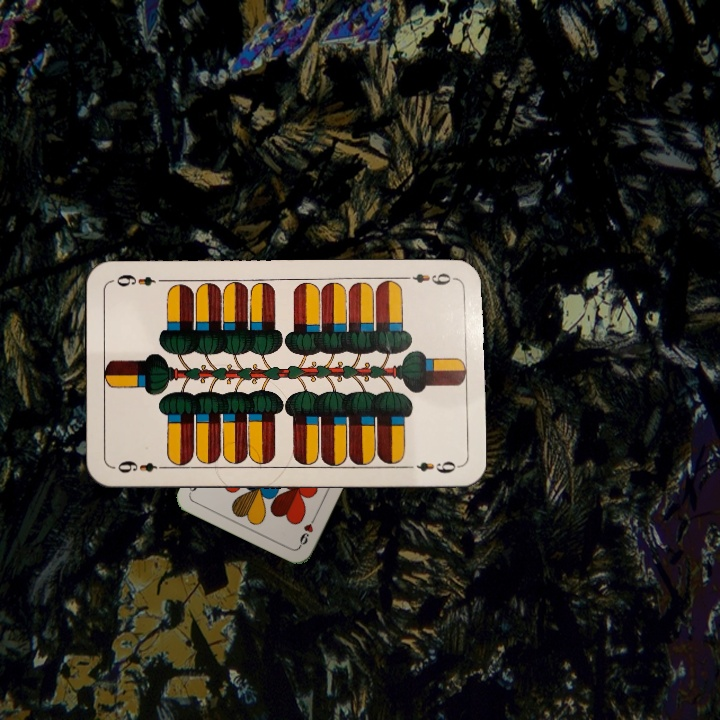E9: (111, 457, 170, 476), (400, 269, 459, 288)
H9: (295, 511, 319, 549)
